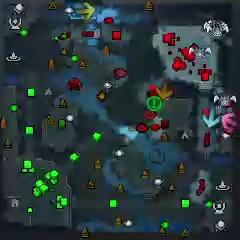x1: (222, 111, 237, 130)
x2: (75, 1, 96, 21)
x3: (203, 108, 219, 127)
x5: (155, 83, 172, 100)
